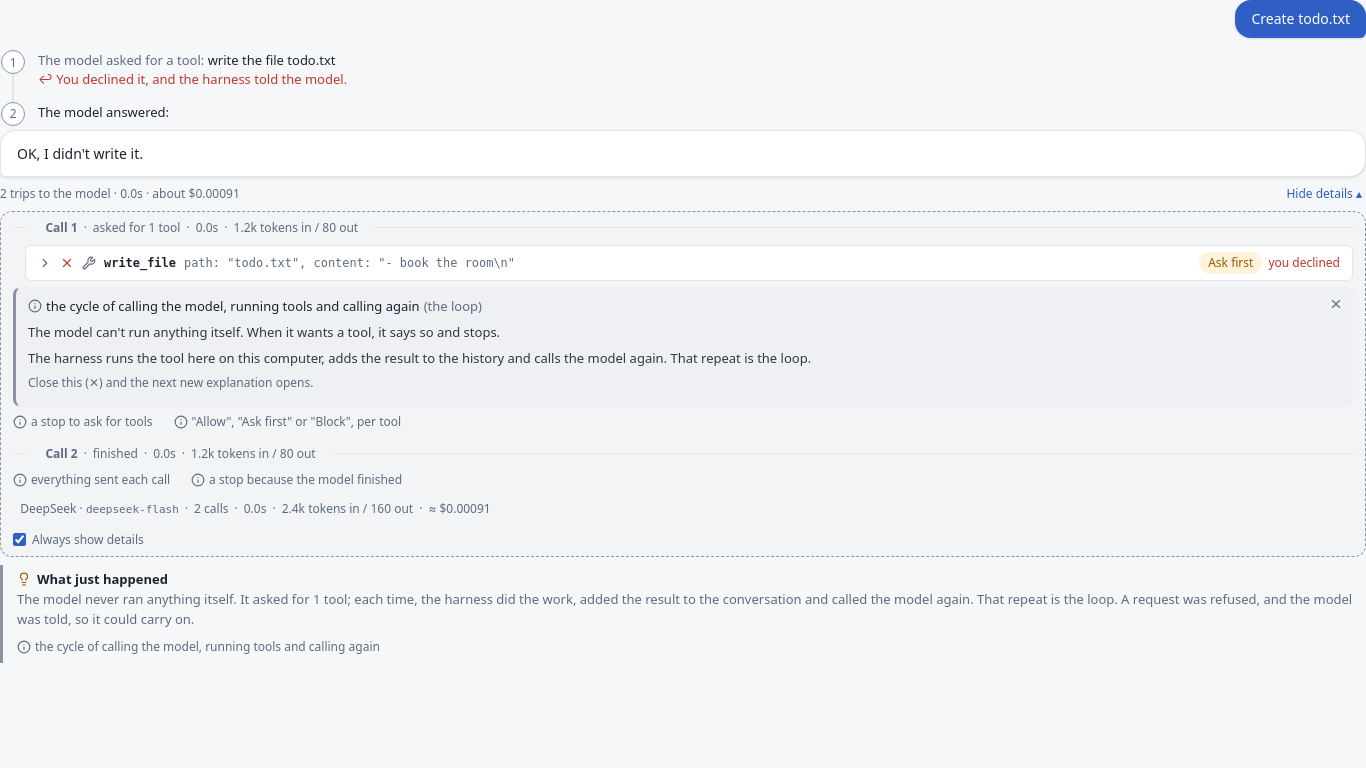
Scenario: Timeline › an opened declined row says you declined it, not that it ran
Click the text "write_file" at (140, 263), box [104,253,176,273]
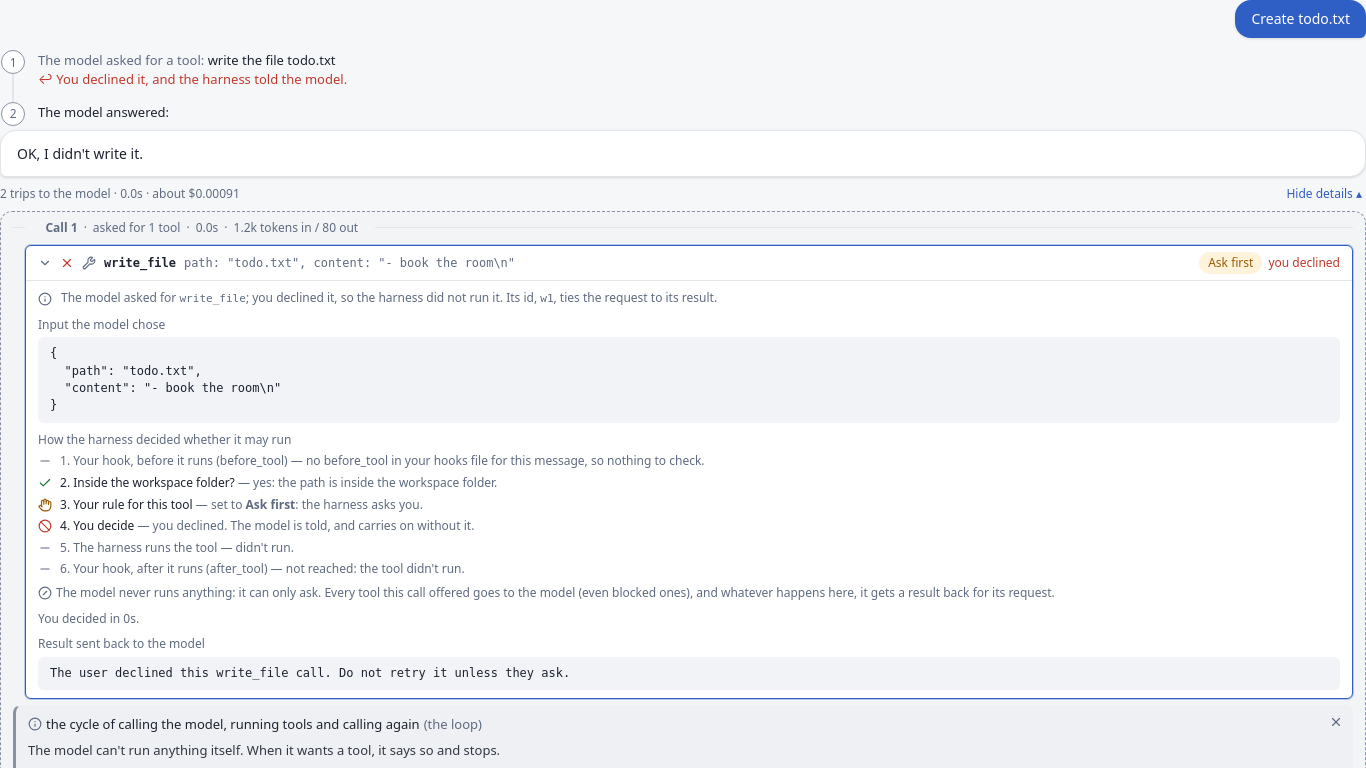
Expected: the text "The model asked for" shows "you declined it", [252,289,500,306]
